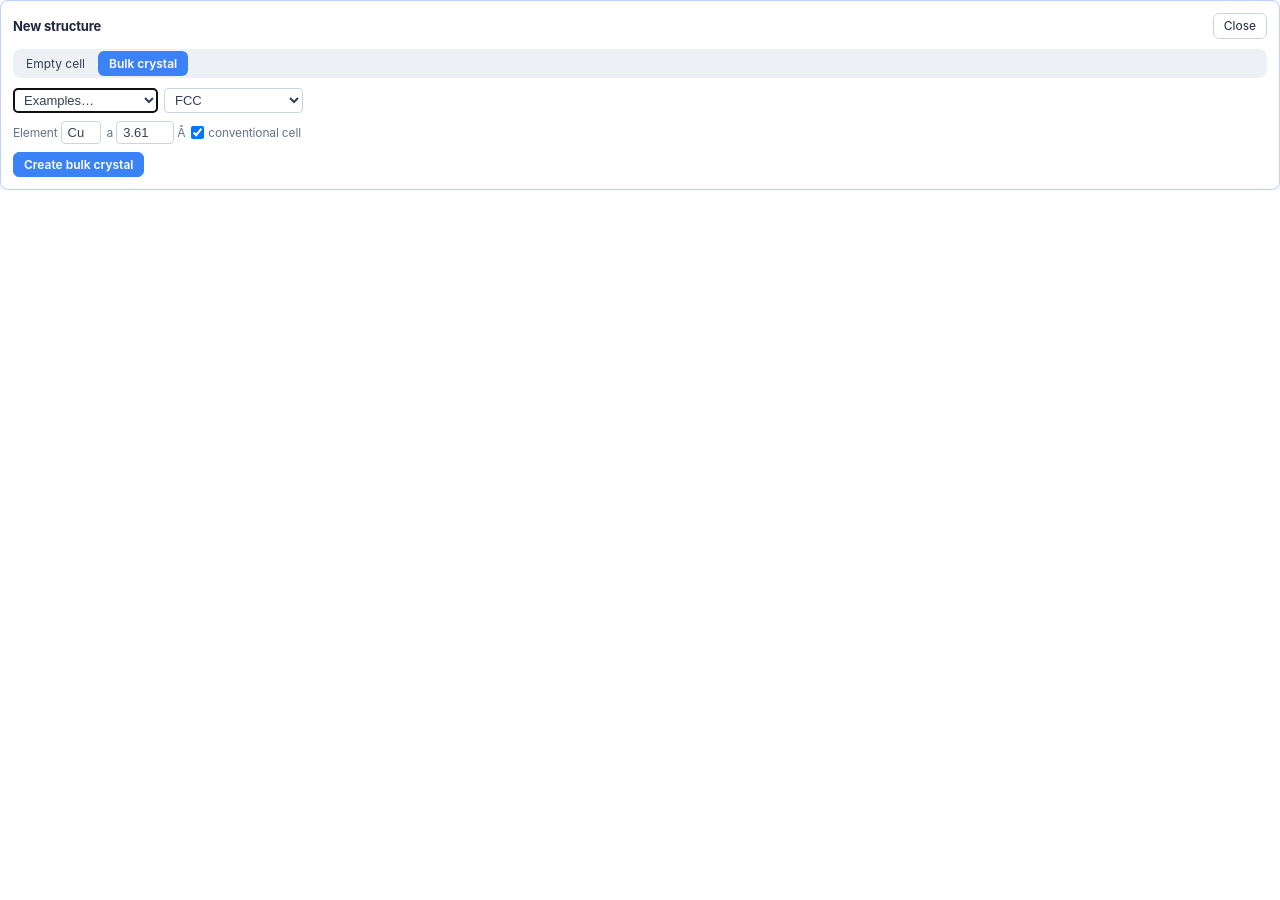
it: NewStructureDialog — bulk crystal › reports what the generator refuses
Click the button with test id "builder-bulk-create" at point(79, 164), box [13, 152, 144, 177]
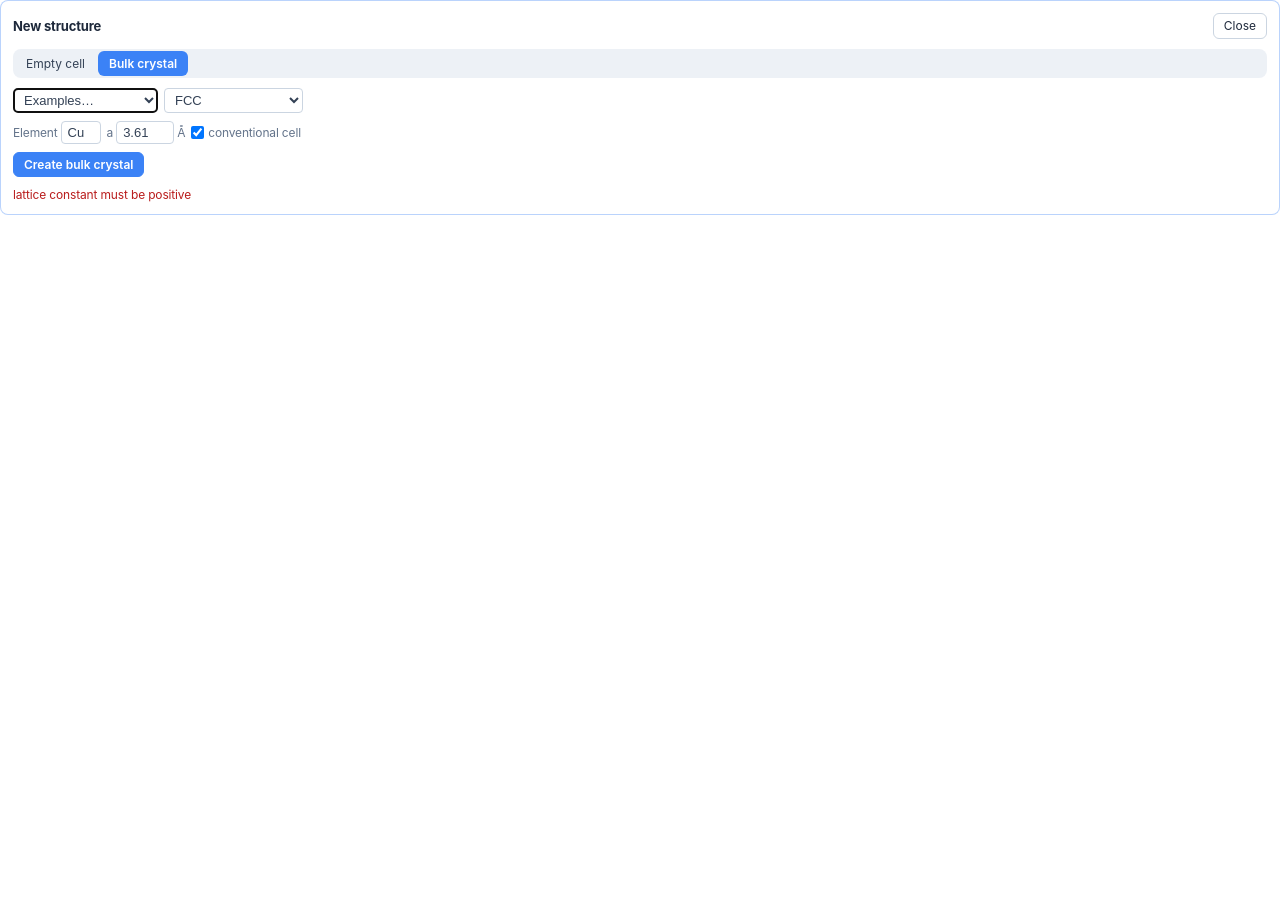
Expected: the message with test id "builder-new-error" shows "positive", [13, 187, 191, 202]
Click the tab with test id "builder-new-kind-cell" at point(56, 63), box [15, 51, 96, 76]
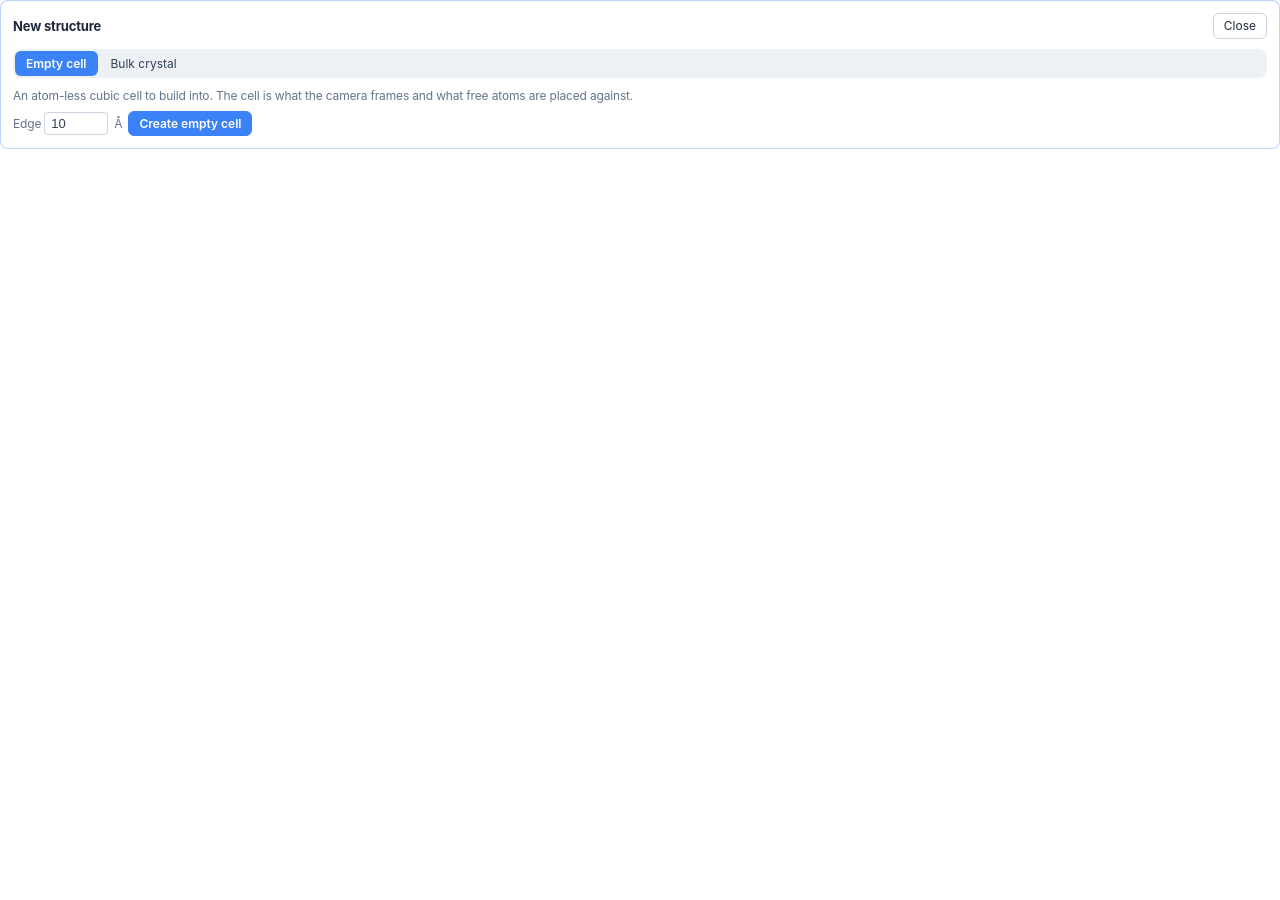
Expected: the message with test id "builder-new-error" is gone
